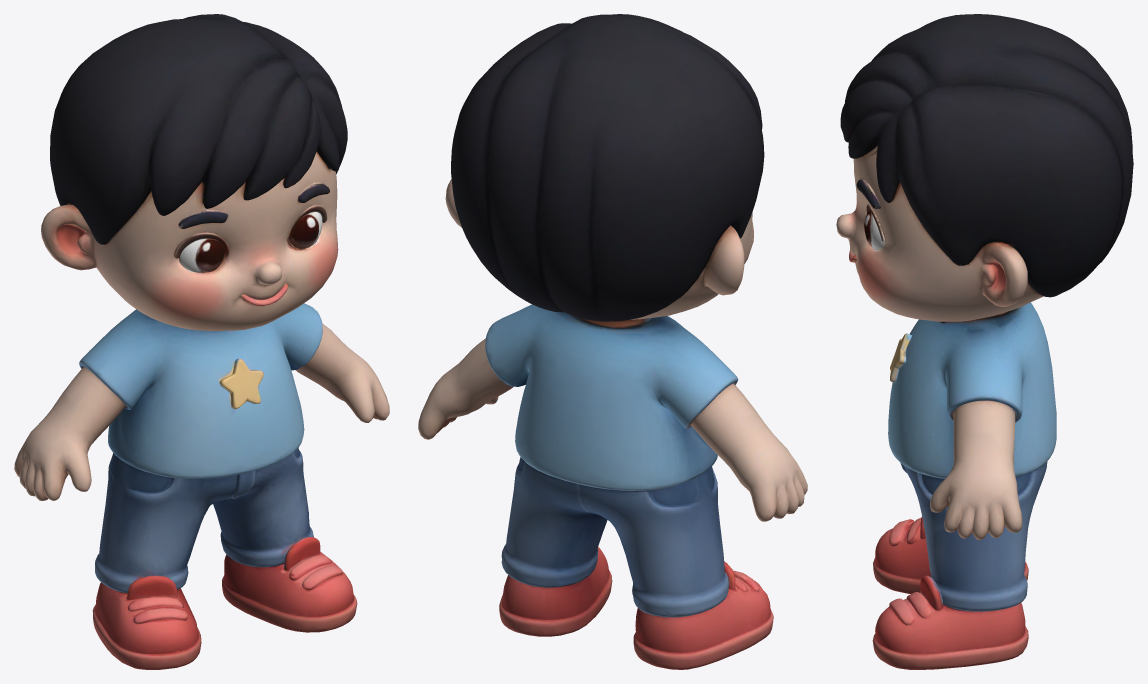
The model's file is player_trai.glb.
The picture shows the model from 3 angles, left to right: view 1: azimuth 30°, elevation 25°; view 2: azimuth 150°, elevation 25°; view 3: azimuth 270°, elevation 25°; orthographic projection. The views are drawn at different scales.
Parts seen in each view (by area): view 1: node_0; view 2: node_0; view 3: node_0.
Boxes of the visible parts, x1,y1,x2,y2 form: node_0: (14,14,389,669); node_0: (418,14,807,669); node_0: (836,14,1133,669).
Size of what is drawn, in the model's own units: 0.6931 by 1.09 by 0.5008.
1 material, 1 textured.
